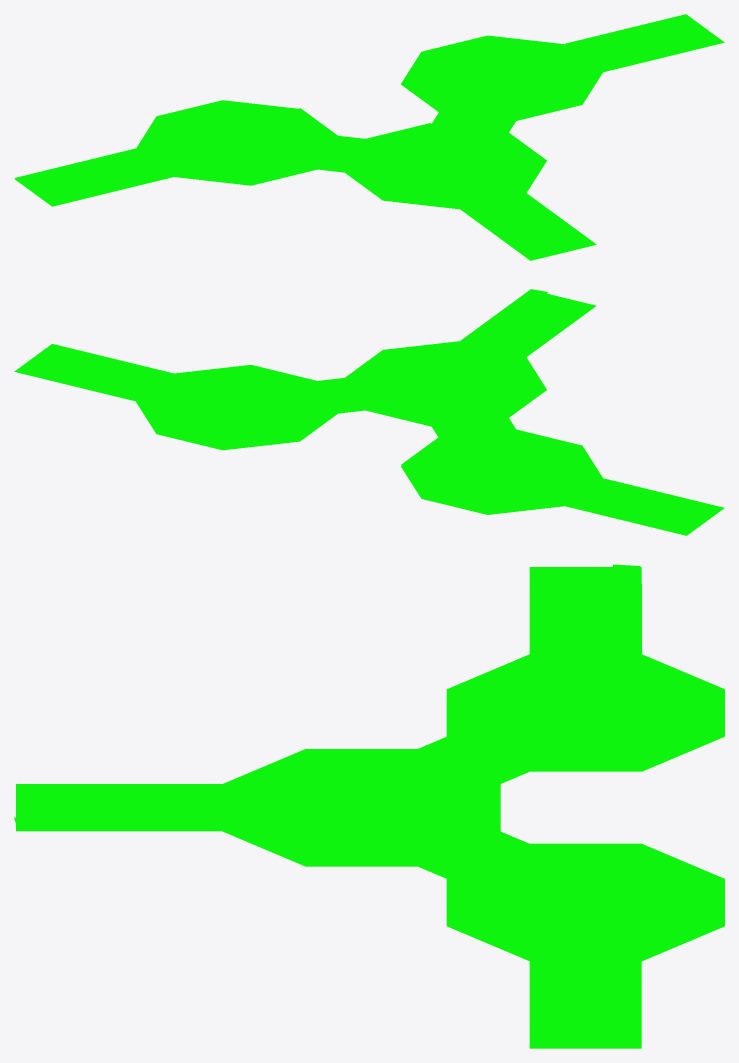
Rendered from s07b_tb3-floor.glb.
The picture shows the model from 3 angles, top to bottom: view 1: azimuth 30°, elevation 25°; view 2: azimuth 150°, elevation 25°; view 3: azimuth 270°, elevation 25°; orthographic projection. The views are drawn at different scales.
Visible parts, largest first — view 1: collision_floor-colonly; view 2: collision_floor-colonly; view 3: collision_floor-colonly.
Part boxes in pixels (x1,y1,x2,y2): collision_floor-colonly: (14,14,724,260); collision_floor-colonly: (14,289,724,535); collision_floor-colonly: (14,564,724,1048).
Bounding box in the file's own units: 61.04 × 0.0996 × 38.03.
